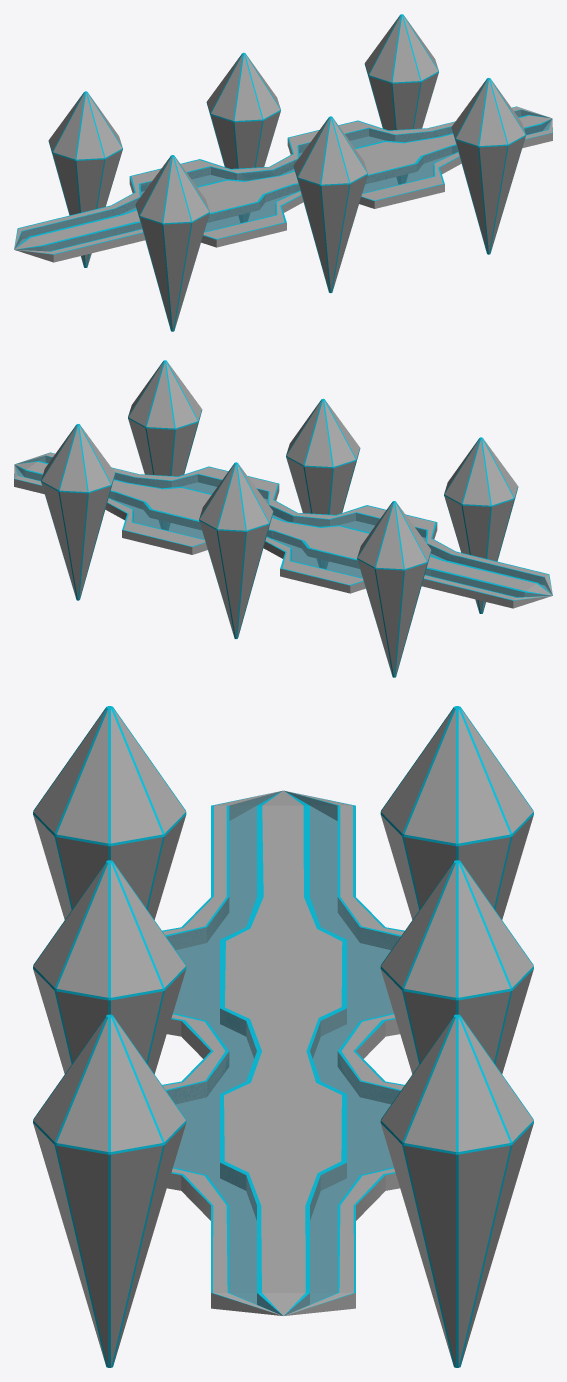
File: Noah-Tutorial.fbx
The picture shows the model from 3 angles, top to bottom: view 1: azimuth 30°, elevation 25°; view 2: azimuth 150°, elevation 25°; view 3: azimuth 270°, elevation 25°; orthographic projection. The views are drawn at different scales.
Visible parts, largest first — view 1: pCube6, pCylinder11, pCylinder8, pCylinder13, pCylinder12, pCylinder9, pCylinder10, pCube5, pCube11, pCube8, pCube10; view 2: pCube6, pCylinder10, pCylinder9, pCylinder12, pCylinder13, pCylinder8, pCylinder11, pCube11, pCube5, pCube10, pCube8; view 3: pCube6, pCylinder10, pCylinder11, pCylinder12, pCylinder13, pCylinder8, pCylinder9, pCube8, pCube10, pCube11, pCube5.
Boxes of the visible parts, x1,y1,x2,y2 form: pCube6: (14,115,551,251); pCylinder11: (451,78,525,254); pCylinder8: (293,116,367,292); pCylinder13: (135,155,209,331); pCylinder12: (48,91,122,267); pCylinder9: (206,52,280,222); pCylinder10: (364,14,438,183); pCube5: (15,119,552,262); pCube11: (14,106,551,249); pCube8: (15,118,552,251); pCube10: (14,110,549,248); pCube6: (14,461,552,597); pCylinder10: (41,424,115,600); pCylinder9: (199,462,273,638); pCylinder12: (357,501,431,677); pCylinder13: (444,437,518,613); pCylinder8: (286,398,360,568); pCylinder11: (128,360,202,529); pCube11: (14,465,552,608); pCube5: (16,452,552,595); pCube10: (14,465,551,597); pCube8: (17,456,552,594); pCube6: (220,790,346,1315); pCylinder10: (380,1014,533,1367); pCylinder11: (33,1014,186,1367); pCylinder12: (380,706,533,919); pCylinder13: (33,706,186,919); pCylinder8: (33,860,186,1073); pCylinder9: (380,860,533,1073); pCube8: (166,791,282,1315); pCube10: (284,791,400,1315); pCube11: (284,790,404,1315); pCube5: (162,790,282,1315).
Bounding box in the file's own units: 71.56 × 22.26 × 28.83.
